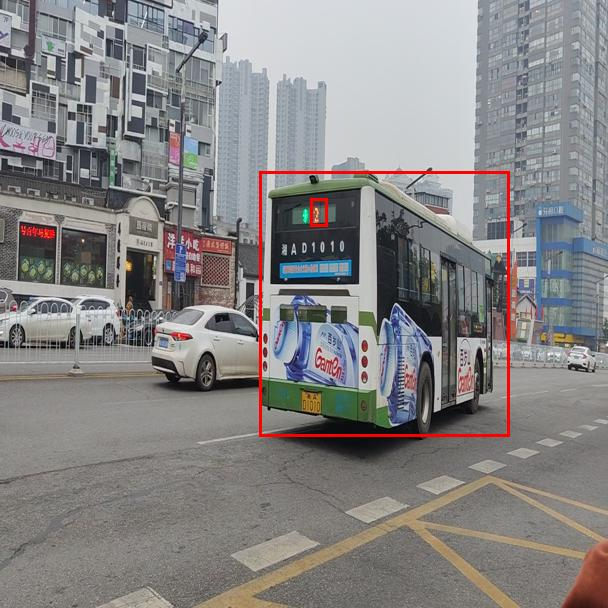bus: (259, 171, 509, 436)
screen: (310, 198, 327, 226)
